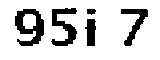5: (49, 5, 80, 50)
7: (115, 7, 151, 51)
9: (9, 8, 48, 51)
i: (82, 5, 102, 52)
